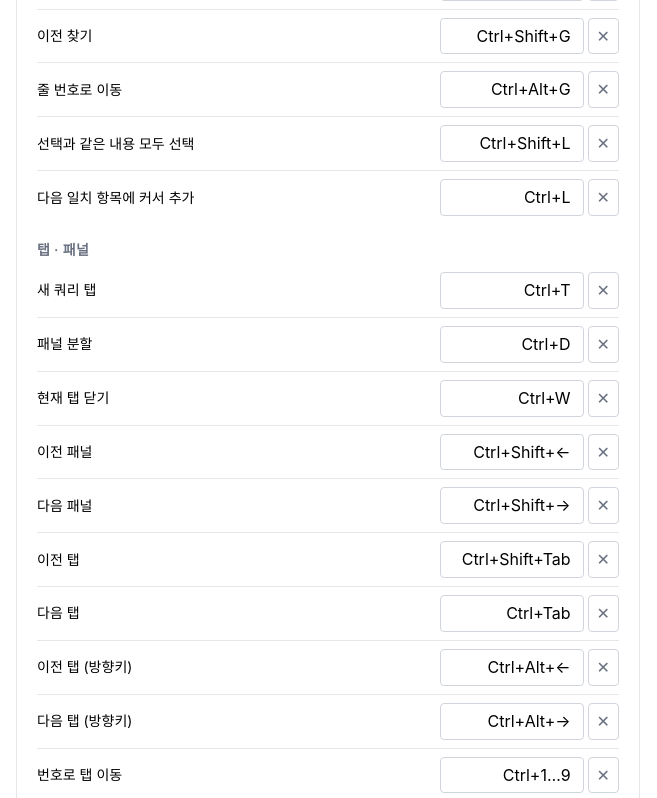
Test case: while recording, the close-tab shortcut is captured instead of closing
(page scrolled)
Step 1. Click the button with aria-label "현재 탭 닫기 단축키" → {"x": 512, "y": 398}, box [440, 380, 584, 416]
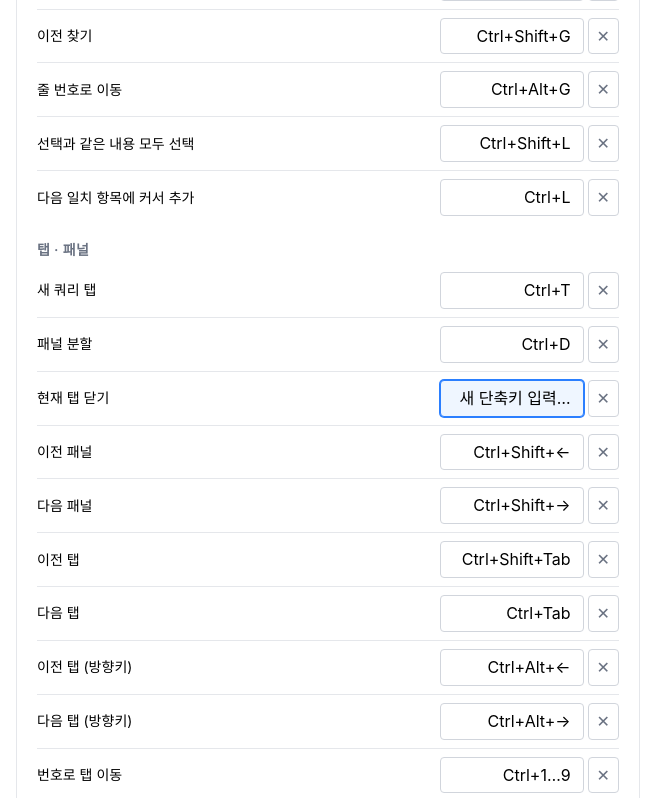
Step 2. Press w
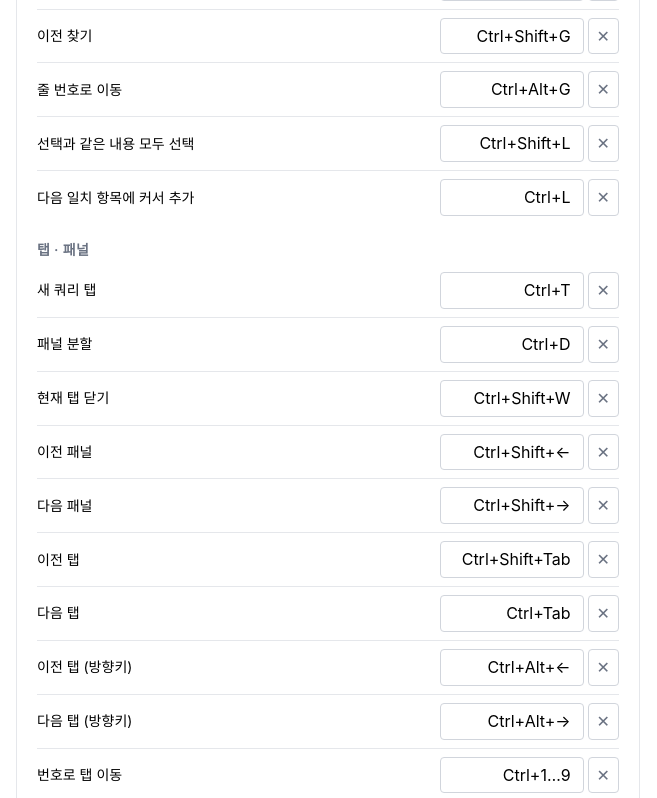
Check: the button with aria-label "현재 탭 닫기 단축키" shows "Shift", box [440, 380, 584, 416]
